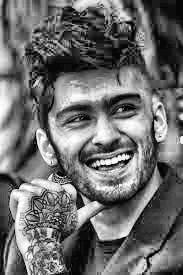happy: (35, 50, 179, 229)
